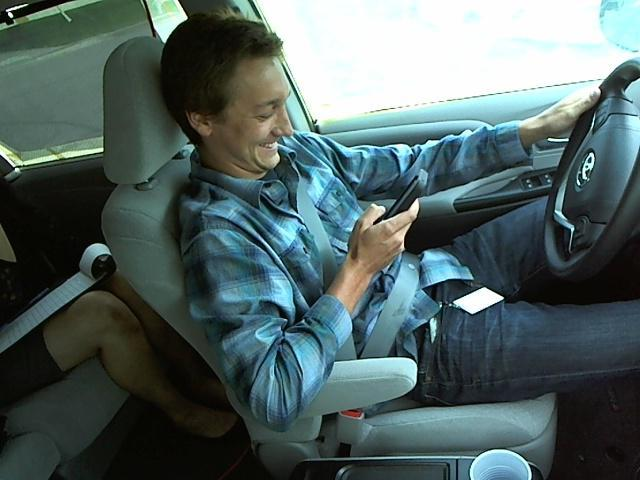PhoneUse: (373, 161, 433, 234)
